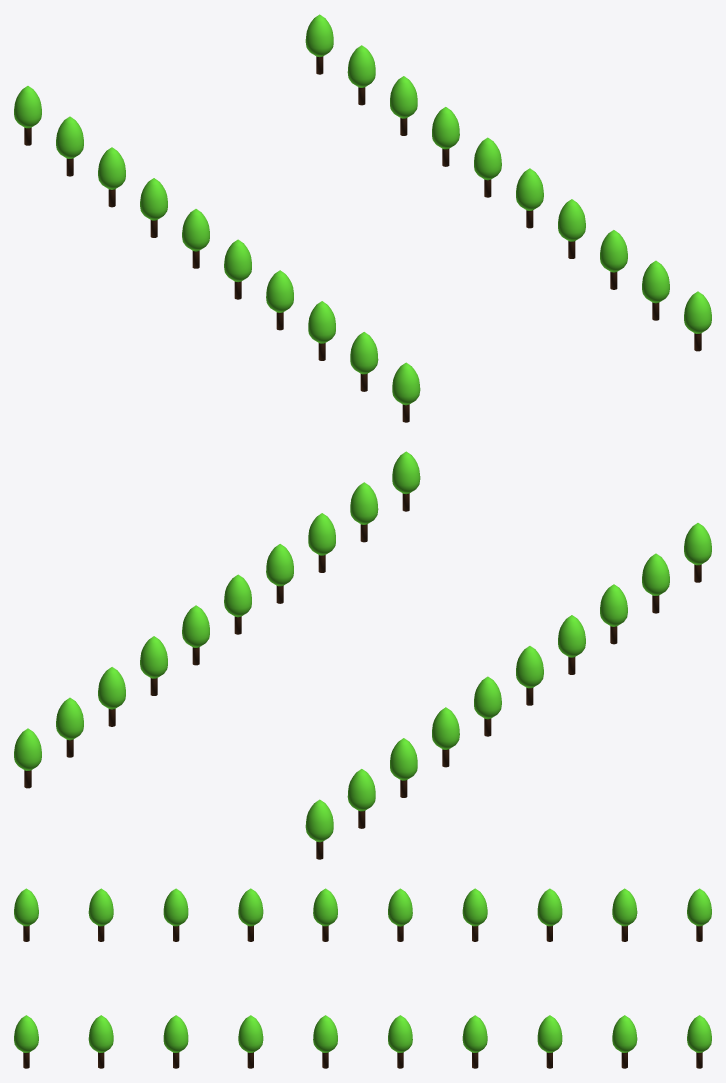
The model's file is Trees.fbx.
The picture shows the model from 3 angles, top to bottom: view 1: azimuth 30°, elevation 25°; view 2: azimuth 150°, elevation 25°; view 3: azimuth 270°, elevation 25°; orthographic projection. The views are drawn at different scales.
Visible parts, largest first — view 1: Cylinder; view 2: Cylinder; view 3: Cylinder.
Part boxes in pixels (box(x1,y1,x2,y2)): Cylinder: box(14, 14, 711, 422); Cylinder: box(14, 451, 711, 859); Cylinder: box(14, 888, 711, 1068).
Size of the model in its own units: 1613 by 286 by 3466.
